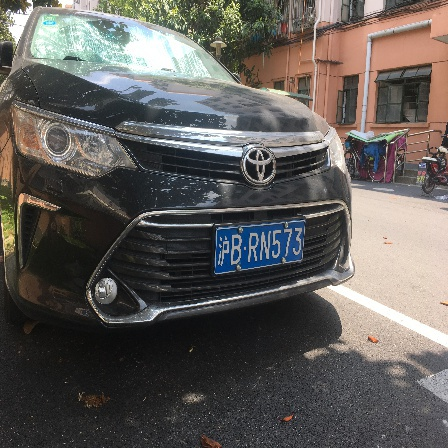plate: (210, 219, 312, 268)
